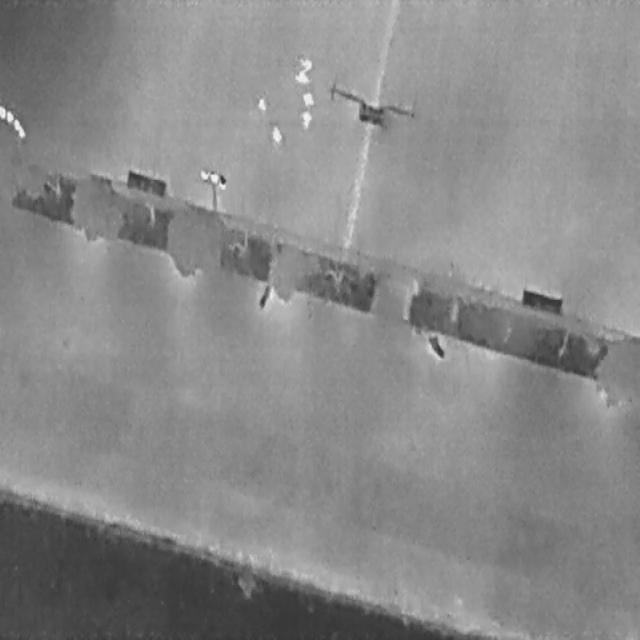Person: (270, 124, 282, 144), (300, 110, 311, 129), (299, 56, 312, 72), (295, 71, 310, 84), (302, 92, 313, 106), (257, 96, 266, 112)
